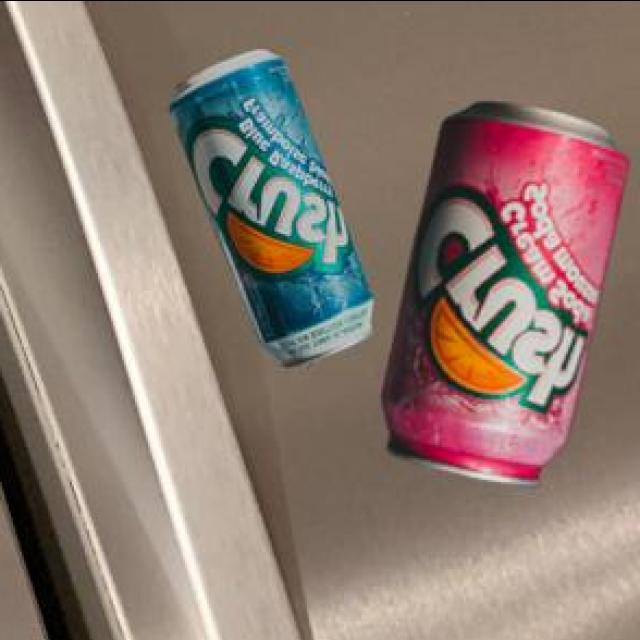logam: (380, 99, 626, 482), (167, 47, 369, 365)
